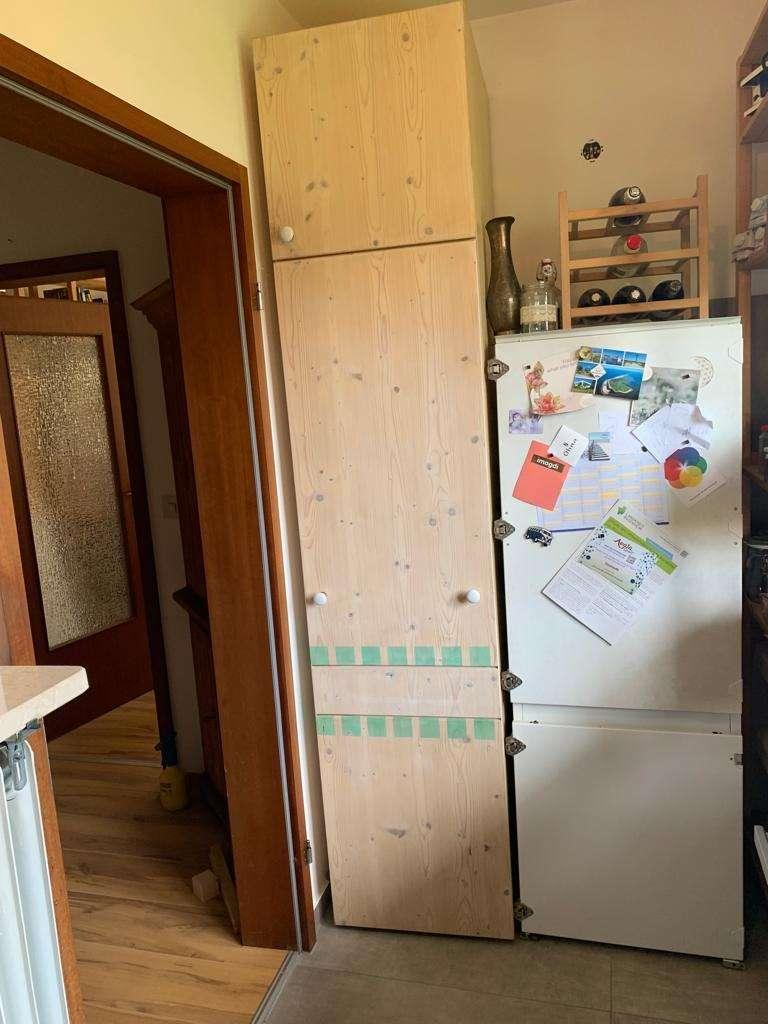cabinet_door: (310, 252, 502, 930), (267, 15, 473, 258)
handle: (518, 704, 736, 744), (457, 583, 487, 613), (273, 220, 300, 250), (308, 583, 332, 613)
